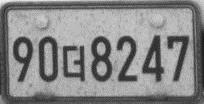0: (38, 36, 59, 82)
2: (115, 35, 138, 82)
4: (141, 33, 165, 82)
7: (166, 34, 190, 83)
8: (90, 35, 114, 82)
9: (12, 35, 34, 84)
더: (61, 44, 86, 82)
